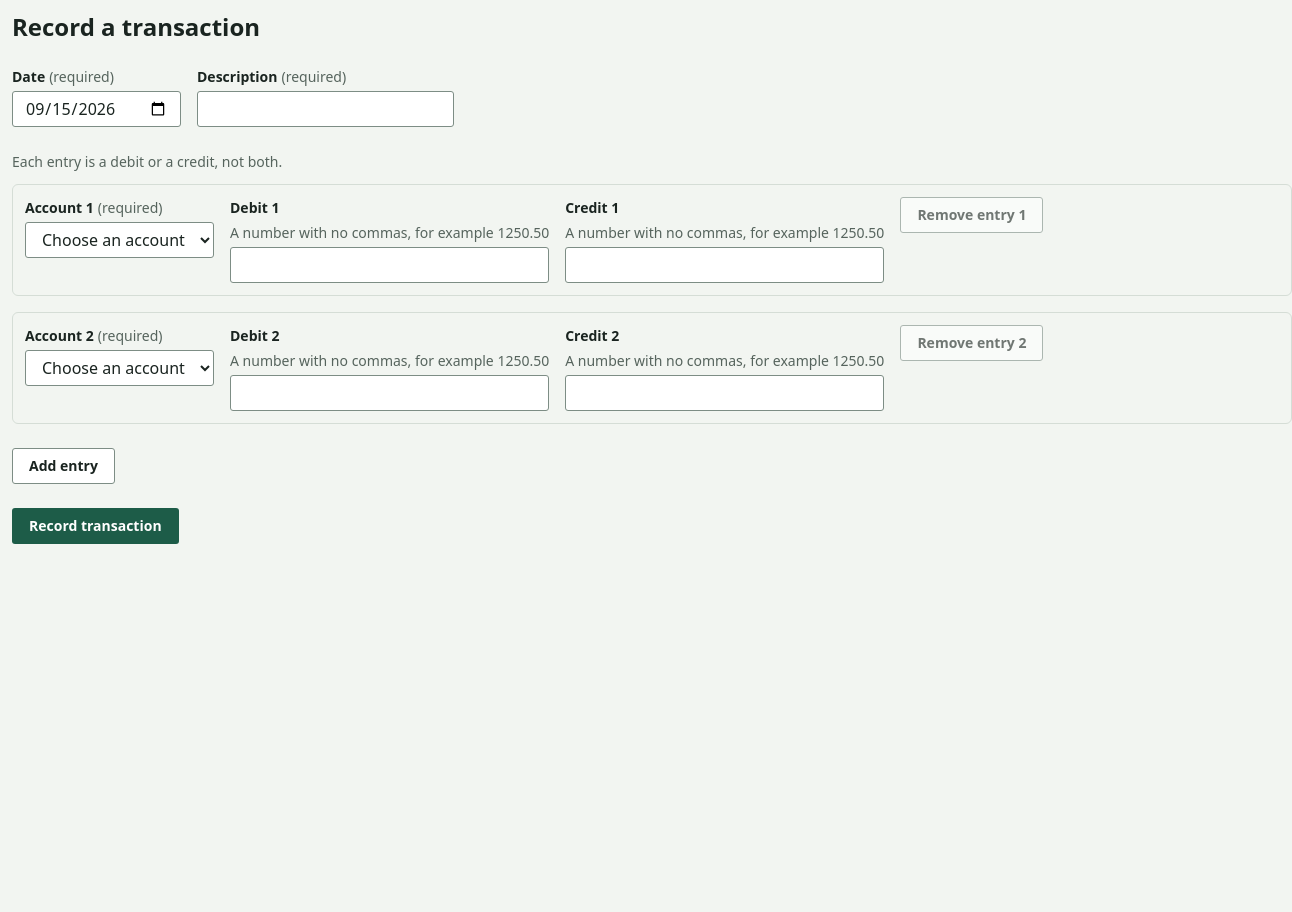
Test: RecordTransactionPage entry rows › Given_the_form_When_Add_entry_is_clicked_Then_a_third_rows_fields_appear
Expected: the dropdown labelled "Account 1" is shown, 25,222 -> 214,258
Click the button "Add entry". click: (63, 466)
box: 12,448 -> 115,484
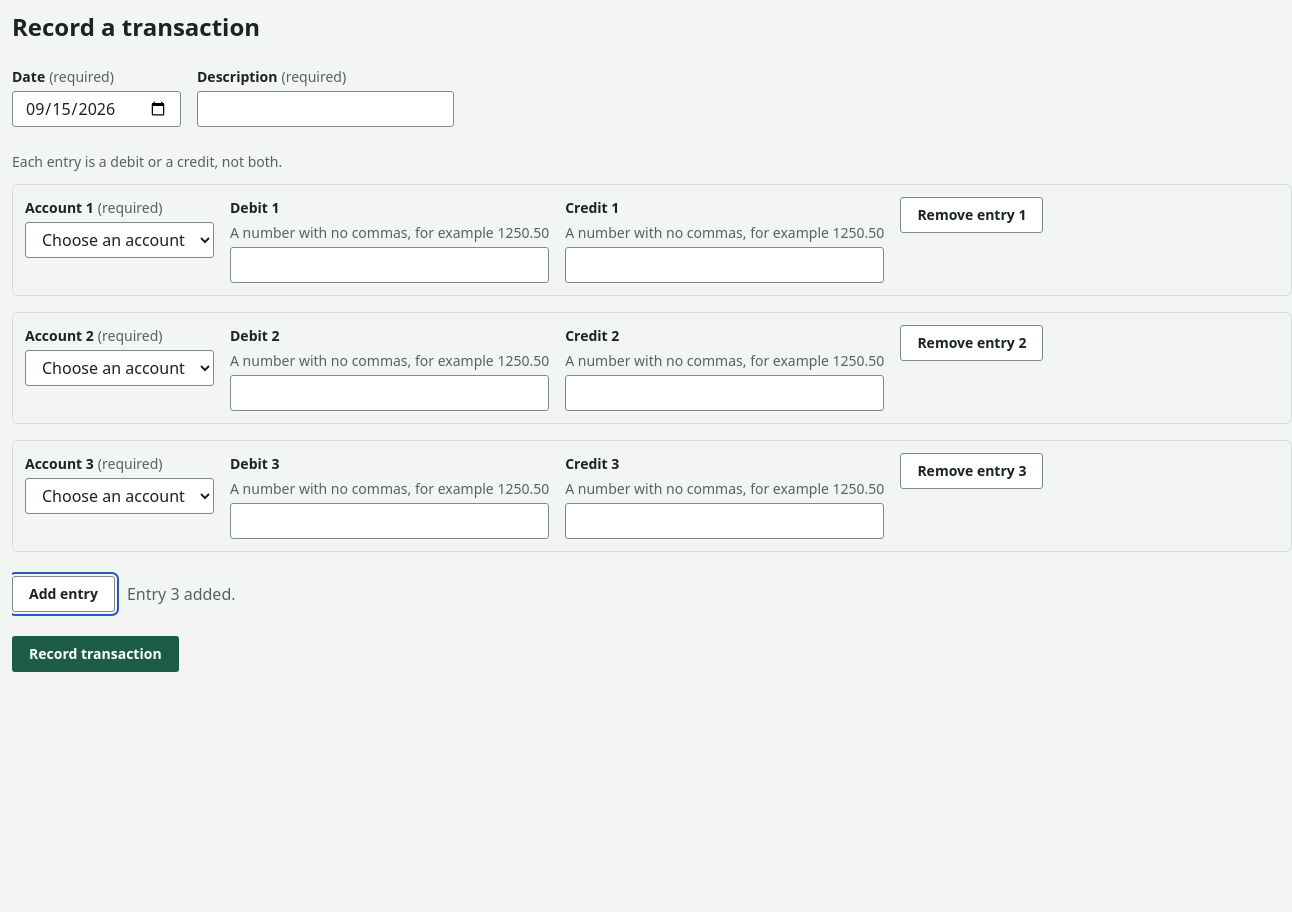
Now the dropdown labelled "Account 3" is shown, box 25,478 -> 214,514
Now the field labelled "Debit 3" is shown, box 230,503 -> 549,539
Now the field labelled "Credit 3" is shown, box 565,503 -> 884,539
